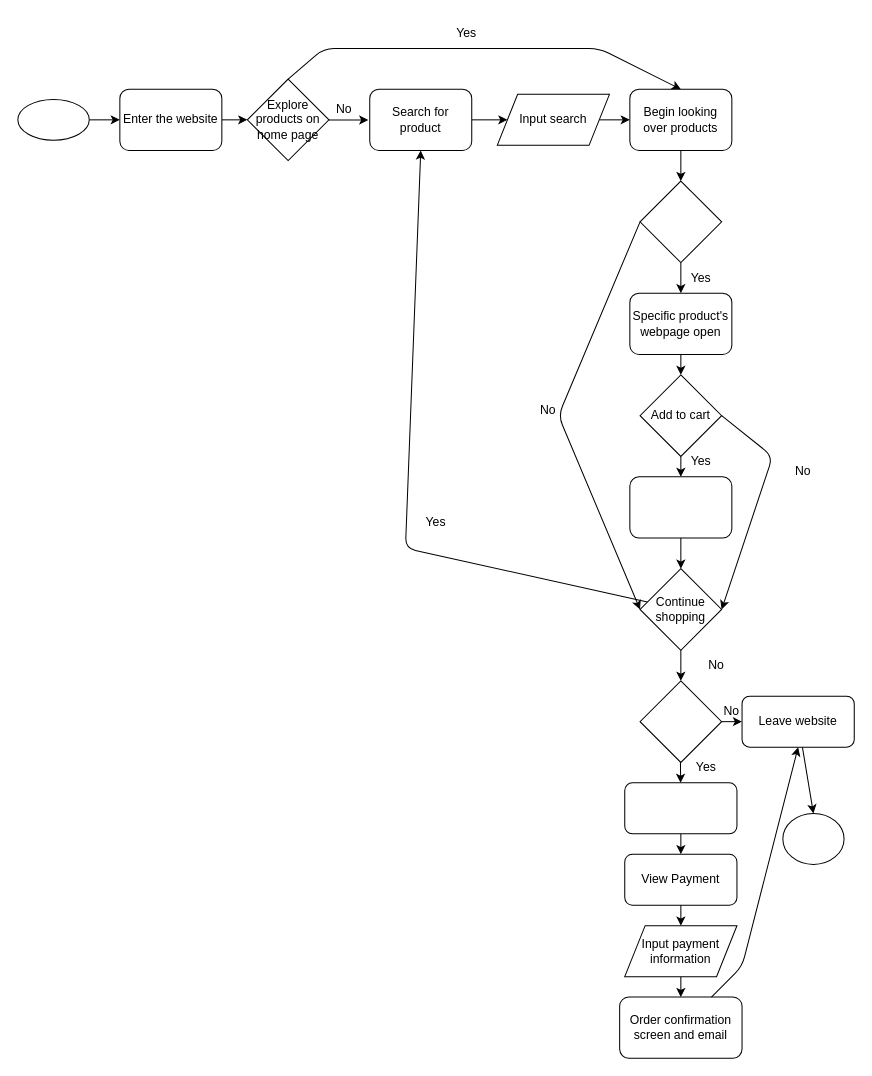
Some shapes in this 872 by 1076 pixel diagram are drawn without their labels. The shapes that lost their labels are listed below. From the top down, each one's box as (x1, y1, x2, y2) in pixels, then its label:
(17, 98, 89, 140): Start
(639, 180, 722, 263): View specific product
(629, 476, 732, 538): Added to cart confirmation
(639, 680, 722, 762): Checkout
(624, 782, 737, 834): View Cart
(782, 812, 844, 864): End
